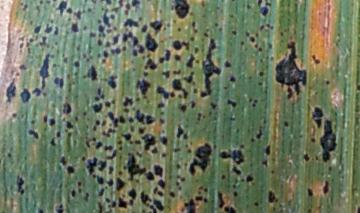tarspot: (273, 40, 308, 100), (200, 37, 222, 98), (188, 142, 212, 179), (318, 118, 336, 165), (123, 151, 147, 183), (38, 52, 50, 89), (139, 189, 157, 213), (135, 77, 153, 99), (3, 77, 17, 104), (171, 77, 188, 99), (172, 1, 191, 20), (144, 31, 158, 53), (310, 106, 323, 129), (15, 173, 26, 198), (82, 65, 97, 83), (231, 147, 245, 166), (85, 156, 99, 175), (141, 134, 156, 151), (142, 58, 158, 73), (149, 20, 164, 36), (54, 1, 69, 17), (182, 197, 196, 213), (181, 71, 197, 85), (19, 87, 31, 105), (26, 127, 40, 142), (257, 1, 271, 16), (155, 86, 170, 100), (102, 7, 112, 28), (39, 35, 50, 54), (122, 18, 139, 30), (152, 162, 164, 178), (266, 188, 278, 204), (185, 53, 196, 70), (83, 135, 96, 149), (216, 190, 225, 210), (135, 108, 145, 126), (106, 111, 118, 126), (102, 127, 117, 139), (107, 74, 118, 90), (152, 199, 165, 212), (96, 159, 107, 174), (321, 179, 331, 195), (53, 76, 64, 90), (153, 184, 164, 198), (121, 96, 135, 107), (97, 19, 105, 38), (91, 102, 103, 114), (112, 32, 121, 48), (310, 53, 321, 66), (218, 150, 231, 161), (117, 196, 128, 209), (122, 31, 133, 44), (115, 177, 125, 191), (175, 124, 183, 141), (163, 48, 172, 63), (225, 97, 237, 108), (231, 165, 243, 176), (127, 187, 138, 199), (171, 39, 182, 51), (61, 101, 71, 114), (43, 22, 53, 35), (71, 21, 80, 35), (73, 8, 84, 19), (255, 126, 263, 141), (95, 174, 105, 186), (123, 3, 131, 18), (181, 39, 190, 52), (190, 20, 198, 34), (55, 202, 65, 213), (145, 114, 155, 125), (145, 171, 155, 182), (18, 1, 28, 12), (58, 154, 67, 166), (131, 35, 140, 47), (156, 178, 166, 188), (66, 165, 76, 175), (107, 151, 117, 161), (177, 102, 186, 113), (33, 24, 42, 35), (65, 119, 74, 130), (16, 42, 25, 53), (109, 47, 121, 55), (264, 143, 271, 156), (223, 206, 236, 213), (96, 200, 103, 213), (137, 42, 144, 55), (161, 69, 170, 79), (223, 59, 232, 69), (159, 135, 168, 145), (32, 87, 41, 97), (156, 101, 166, 110), (105, 177, 114, 187), (104, 203, 113, 213), (244, 174, 254, 183), (140, 23, 149, 33), (265, 21, 275, 30), (17, 63, 28, 71), (49, 136, 57, 147), (48, 117, 56, 128), (209, 100, 217, 111), (82, 192, 90, 203), (97, 187, 105, 198), (120, 133, 131, 141), (15, 34, 26, 42), (170, 68, 182, 75), (251, 97, 258, 109), (61, 52, 68, 64), (306, 186, 313, 198), (188, 100, 197, 109), (118, 115, 127, 124), (260, 158, 268, 168), (110, 5, 120, 13), (195, 112, 202, 123), (302, 153, 310, 162), (227, 75, 236, 83), (173, 53, 182, 61), (72, 60, 81, 68), (150, 146, 158, 155), (30, 117, 38, 126), (137, 127, 145, 136), (101, 49, 109, 58), (157, 117, 166, 125), (94, 142, 103, 150), (89, 30, 97, 39), (247, 35, 256, 43), (238, 39, 247, 47), (81, 24, 89, 33), (194, 195, 204, 202), (53, 25, 60, 35), (121, 107, 131, 114), (131, 47, 138, 57), (70, 187, 76, 198), (103, 145, 114, 151), (101, 117, 107, 128), (230, 29, 238, 37), (190, 86, 198, 94), (65, 6, 73, 14), (196, 183, 204, 191), (175, 25, 183, 33), (9, 111, 18, 118), (111, 200, 118, 209), (172, 146, 181, 153), (96, 87, 103, 96), (95, 37, 102, 46), (75, 42, 82, 51), (42, 114, 48, 124), (168, 191, 176, 198), (169, 91, 176, 99), (173, 162, 180, 170), (245, 2, 252, 10), (116, 169, 123, 177), (142, 70, 149, 78), (133, 139, 141, 146), (160, 151, 168, 158), (127, 116, 135, 123), (103, 100, 110, 108), (199, 1, 207, 8), (109, 13, 116, 21), (325, 165, 333, 172), (41, 91, 49, 98), (158, 55, 164, 64), (121, 44, 127, 53), (259, 23, 264, 33), (95, 50, 100, 60), (282, 120, 289, 127), (219, 173, 226, 180), (248, 137, 255, 144), (94, 119, 101, 126), (6, 151, 12, 159), (232, 190, 238, 198), (193, 46, 199, 54), (188, 35, 194, 43), (131, 1, 139, 7), (80, 155, 86, 163), (91, 125, 97, 133), (110, 97, 116, 105), (252, 42, 258, 50), (278, 30, 284, 38), (305, 207, 313, 213), (129, 198, 134, 207), (237, 144, 246, 149), (104, 1, 113, 6), (356, 82, 360, 93), (257, 70, 264, 76), (257, 79, 263, 86), (182, 133, 188, 140), (202, 197, 208, 204), (55, 130, 61, 137), (194, 58, 200, 65), (103, 196, 110, 202), (92, 173, 98, 180), (66, 131, 72, 138), (101, 58, 107, 65), (180, 176, 187, 182), (99, 93, 105, 100), (200, 32, 207, 38), (28, 37, 35, 43), (84, 57, 91, 63), (269, 168, 276, 174), (90, 1, 98, 6), (355, 205, 360, 213), (324, 79, 330, 85), (186, 148, 192, 154), (253, 201, 259, 207), (81, 110, 87, 116), (197, 190, 203, 196), (104, 41, 110, 47), (257, 47, 263, 53), (86, 7, 92, 13), (177, 93, 182, 100), (174, 173, 181, 178), (118, 1, 123, 8), (174, 179, 179, 186), (177, 184, 182, 191), (229, 116, 236, 121), (310, 137, 315, 143), (37, 208, 43, 213), (73, 116, 79, 121), (93, 96, 99, 101), (203, 187, 208, 193), (113, 25, 118, 31), (244, 31, 249, 37), (217, 26, 223, 31), (44, 1, 50, 6), (157, 8, 162, 14), (51, 61, 56, 67), (82, 52, 87, 58), (314, 154, 319, 160), (213, 21, 218, 26), (38, 1, 43, 6), (77, 180, 81, 186), (106, 28, 110, 34), (272, 205, 276, 211), (247, 96, 251, 101), (144, 1, 152, 3), (51, 1, 58, 3), (230, 1, 236, 3)
